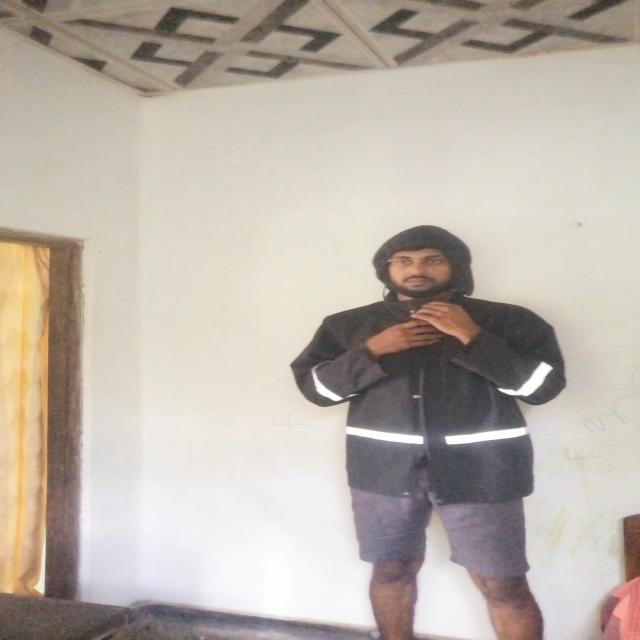Jacket_Wearer: (290, 225, 577, 506)
